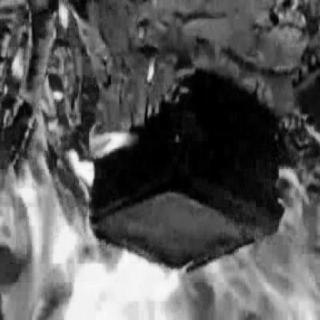Fire: (5, 19, 319, 317)
